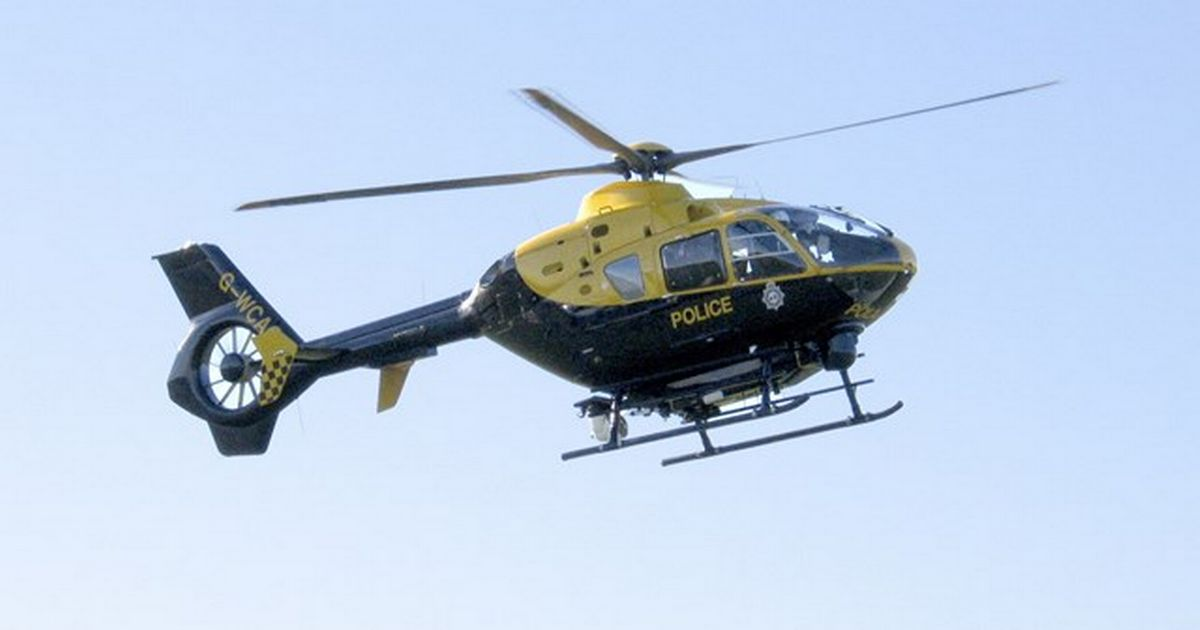Helicopter: (139, 87, 948, 504)
